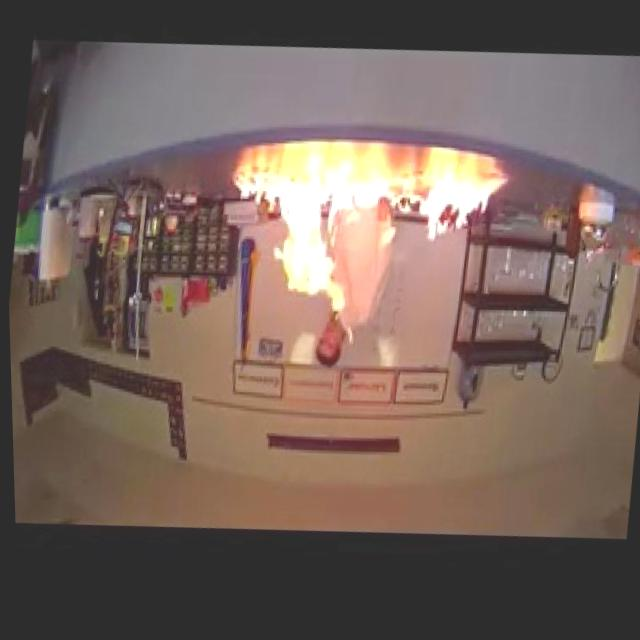helmet: (212, 149, 515, 349)
